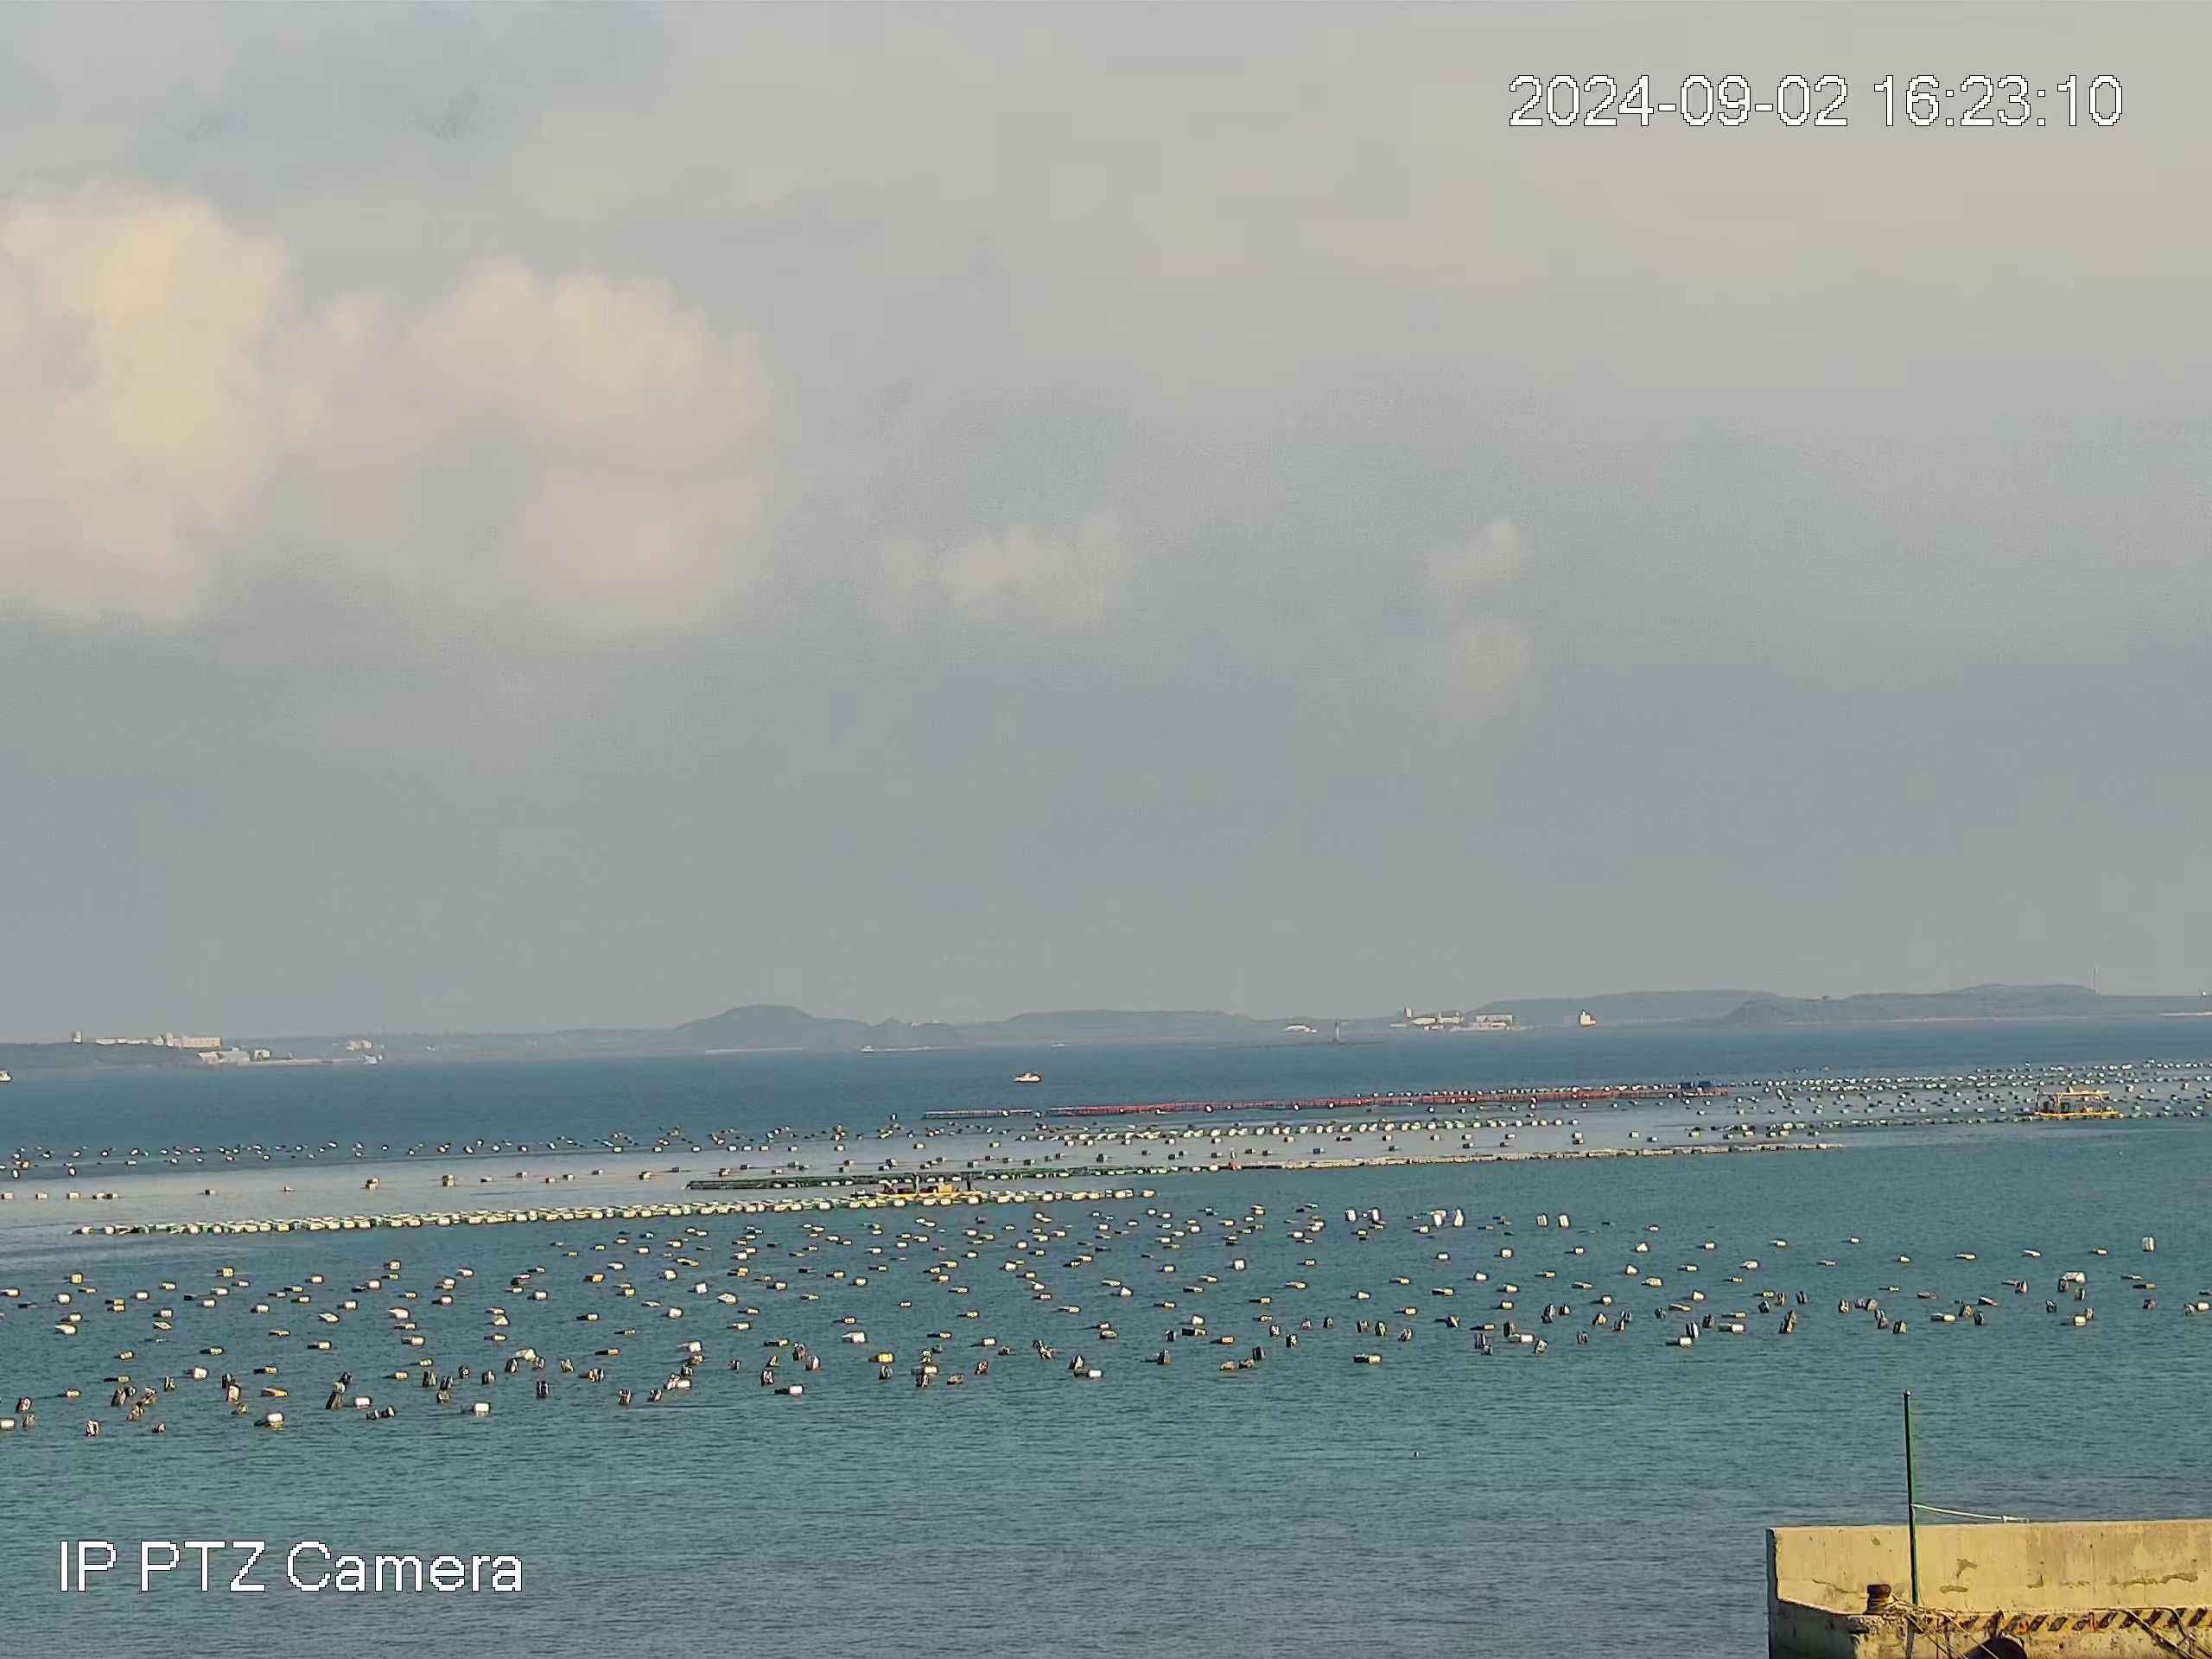boat: (874, 1171, 982, 1197), (2031, 1091, 2120, 1117), (1010, 1070, 1042, 1084)
